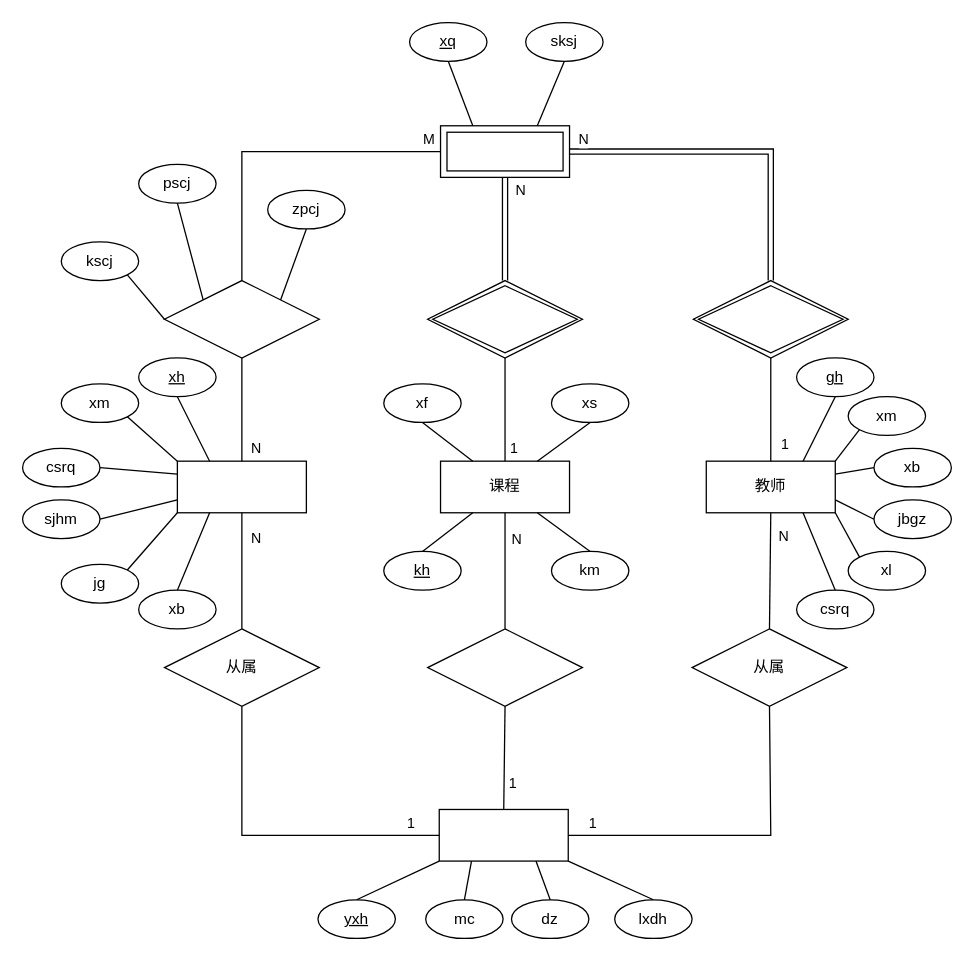
The diagram is 974 pixels wide and 961 high, and some of its shapes have lost their labels. The shapes that lost their labels are listed below. From the top down, each one's box as (x1, y1, x2, y2) in pixels, then its label:
(439, 124, 570, 177): 开课
(163, 279, 319, 358): 选课
(426, 279, 582, 358): 排课
(692, 279, 848, 358): 授课
(176, 460, 306, 513): 学生
(426, 628, 582, 706): 开设
(438, 808, 568, 861): 院系
